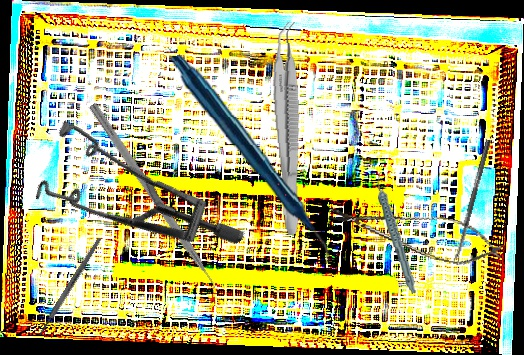Chopper: (78, 102, 226, 307)
Handpiece: (169, 50, 331, 269), (376, 170, 417, 296)
Micro Scissor: (323, 193, 508, 274)
Scalpel Handle: (37, 236, 103, 337)
Speculum: (9, 72, 247, 323)
Surgical Spoon: (451, 138, 492, 266)
Tissue Forceps: (268, 21, 312, 236)
